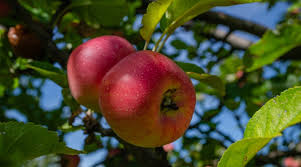tao: (101, 50, 198, 147), (49, 35, 130, 110)
